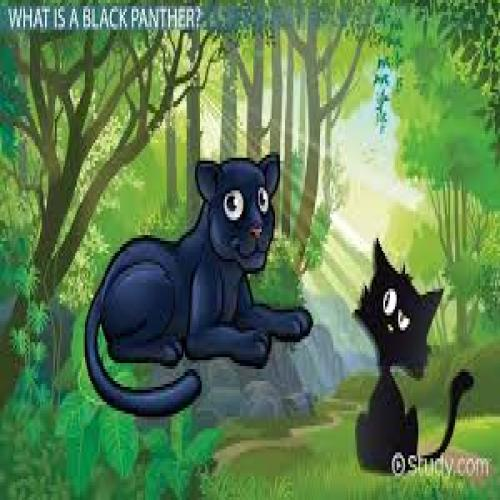panther-endangered: (82, 148, 315, 418)
